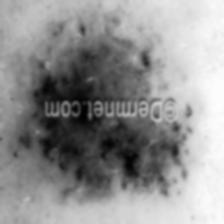Potentially Malignant Skin Tumors: (37, 120, 202, 200)
